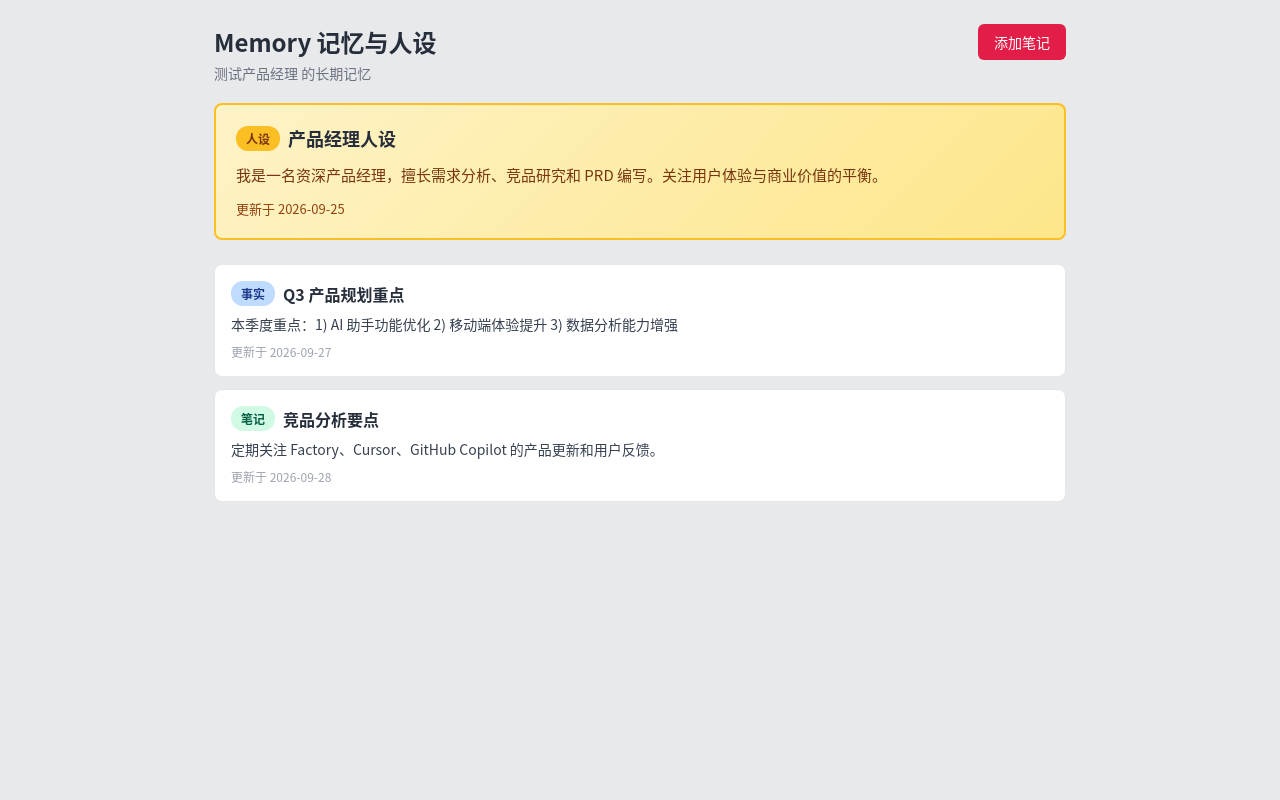
TC-MEMORY-INTERACTIVE: Memory 添加笔记真反馈 › 场景 1: 点击「添加笔记」→ 显示模态框 › should show modal when add button clicked
Click the button with class "btn-add": (1022, 42) [978, 24, 1066, 60]
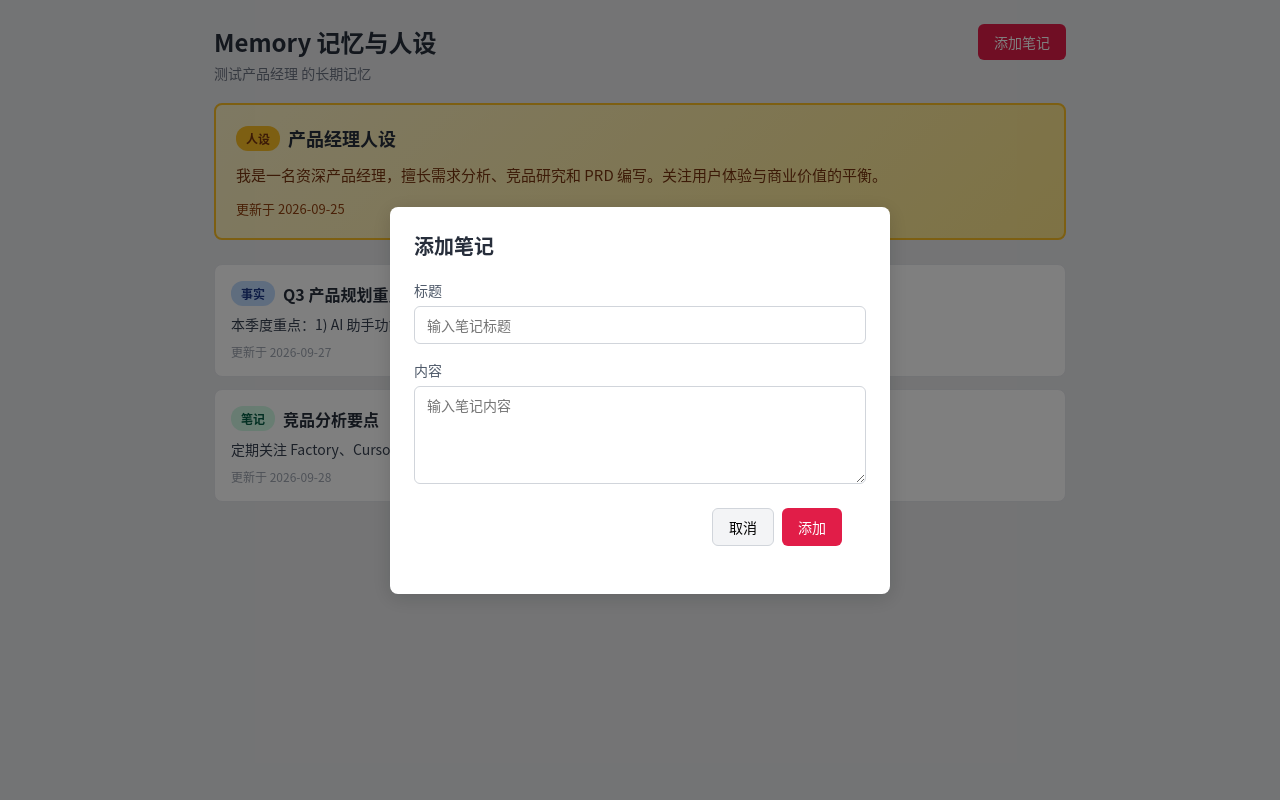
Expected: the element with class "modal-overlay" is shown
